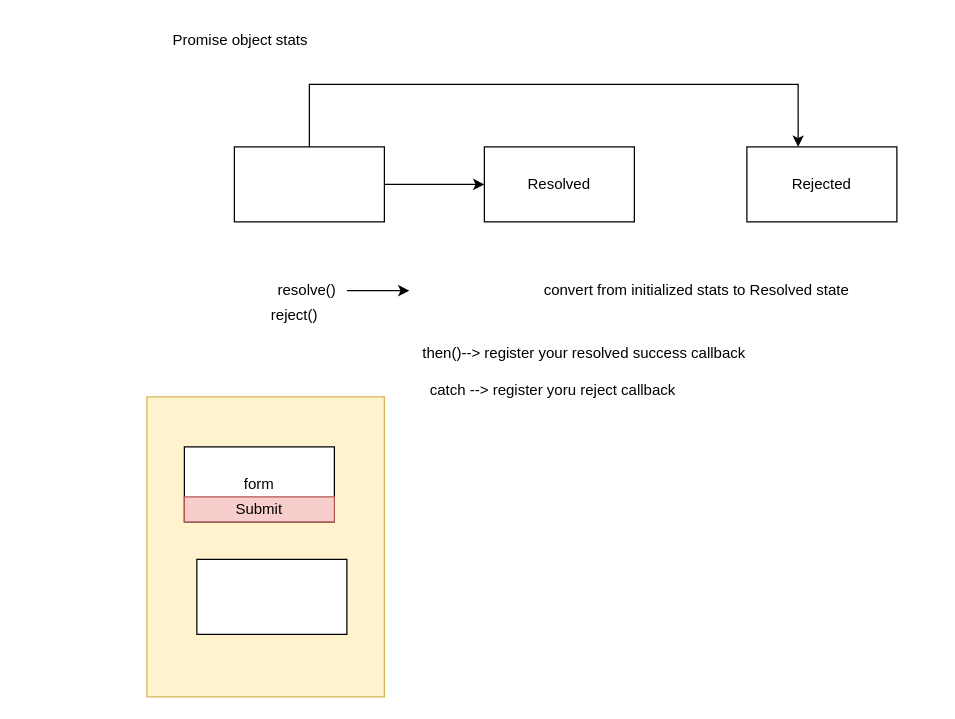
The diagram is 955 pixels wide and 719 high, and some of its shapes have lost their labels. The shapes that lost their labels are listed below. From the top down, each one's box as (x1, y1, x2, y2) in pixels, then its label:
(233, 146, 384, 222): Initialized
(196, 558, 347, 634): list of all expenses in tabular format
